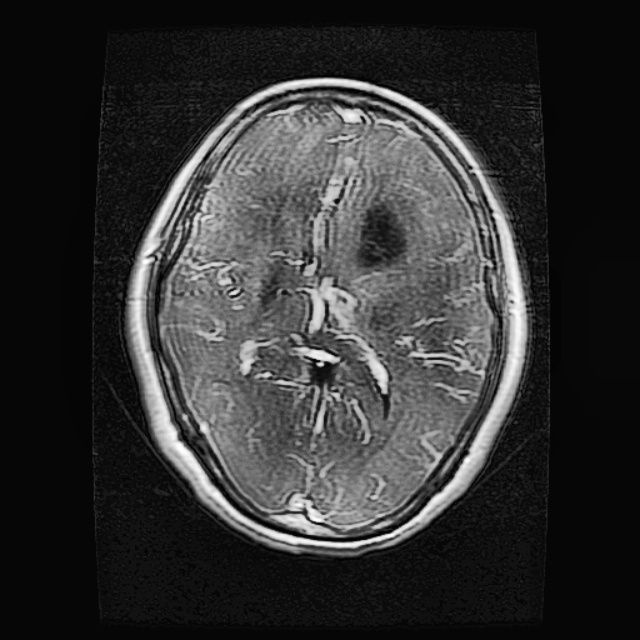Glioma: (355, 197, 410, 269)
